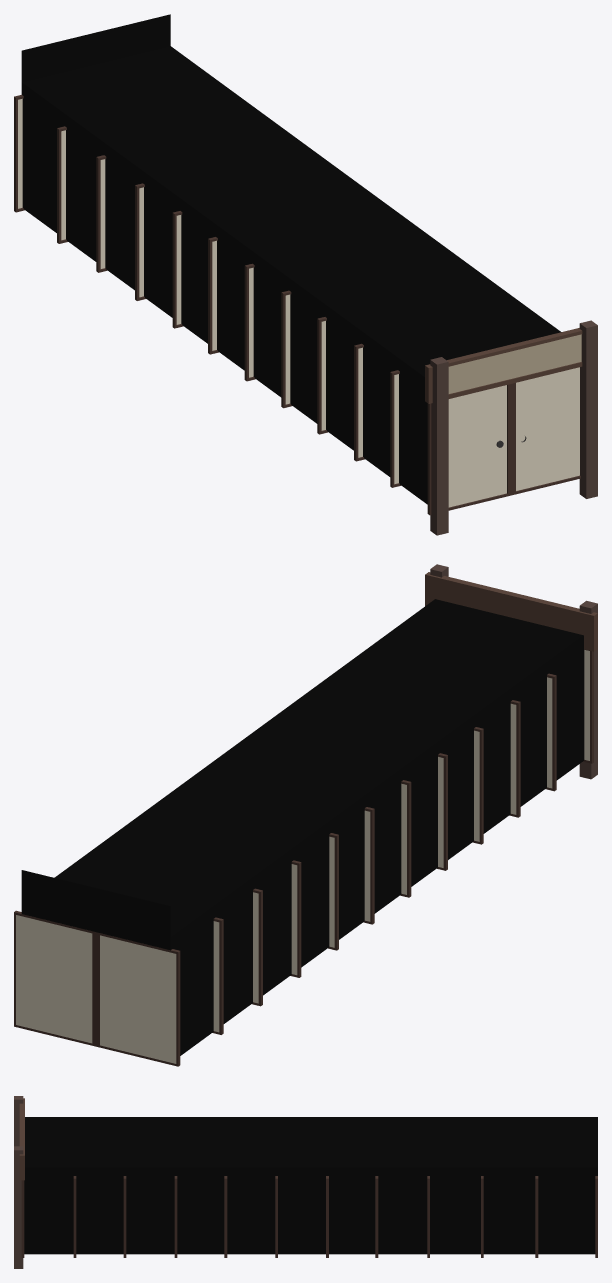
The model's file is room_transition.glb.
The picture shows the model from 3 angles, top to bottom: view 1: azimuth 30°, elevation 25°; view 2: azimuth 150°, elevation 25°; view 3: azimuth 270°, elevation 25°; orthographic projection. The views are drawn at different scales.
Parts seen in each view (by area): view 1: TransitionInner, AnimDoors1, SlidingDoorsTop, Cube.001, Cube.002, AnimDoors6, AnimDoors10, AnimDoors8, AnimDoors5, AnimDoors12, AnimDoors3, AnimDoors2 (+4 smaller); view 2: TransitionInner, AnimDoors12, SlidingDoorsTop, AnimDoors7, AnimDoors3, AnimDoors11, AnimDoors6, AnimDoors9, AnimDoors4, AnimDoors2, AnimDoors5, AnimDoors8 (+3 smaller); view 3: TransitionInner, Cube.002, SlidingDoorsTop, Cube.001, AnimDoors2, AnimDoors3, AnimDoors4, AnimDoors5, AnimDoors8, AnimDoors11, AnimDoors1.
Boxes of the visible parts, bbox=[...] form: TransitionInner: bbox=[21, 14, 561, 504]; AnimDoors1: bbox=[427, 367, 580, 515]; SlidingDoorsTop: bbox=[425, 328, 582, 403]; Cube.001: bbox=[430, 357, 448, 535]; Cube.002: bbox=[579, 320, 597, 498]; AnimDoors6: bbox=[244, 263, 255, 381]; AnimDoors10: bbox=[96, 155, 107, 272]; AnimDoors8: bbox=[172, 211, 183, 328]; AnimDoors5: bbox=[281, 290, 291, 408]; AnimDoors12: bbox=[14, 94, 24, 212]; AnimDoors3: bbox=[354, 343, 364, 461]; AnimDoors2: bbox=[390, 370, 400, 487]; TransitionInner: bbox=[21, 599, 584, 1055]; AnimDoors12: bbox=[14, 910, 180, 1066]; SlidingDoorsTop: bbox=[425, 572, 597, 651]; AnimDoors7: bbox=[363, 807, 374, 924]; AnimDoors3: bbox=[509, 700, 520, 817]; AnimDoors11: bbox=[212, 917, 223, 1034]; AnimDoors6: bbox=[400, 780, 411, 897]; AnimDoors9: bbox=[290, 860, 301, 977]; AnimDoors4: bbox=[472, 727, 483, 844]; AnimDoors2: bbox=[546, 673, 556, 791]; AnimDoors5: bbox=[437, 753, 447, 870]; AnimDoors8: bbox=[328, 833, 338, 950]; TransitionInner: bbox=[24, 1117, 597, 1254]; Cube.002: bbox=[14, 1146, 23, 1268]; SlidingDoorsTop: bbox=[19, 1098, 24, 1180]; Cube.001: bbox=[14, 1096, 23, 1146]; AnimDoors2: bbox=[73, 1176, 76, 1257]; AnimDoors3: bbox=[123, 1176, 126, 1257]; AnimDoors4: bbox=[174, 1176, 177, 1257]; AnimDoors5: bbox=[224, 1176, 227, 1257]; AnimDoors8: bbox=[375, 1176, 378, 1257]; AnimDoors11: bbox=[535, 1176, 538, 1257]; AnimDoors1: bbox=[21, 1180, 24, 1257].
Size of the model in its own units: 5.37 by 5.32 by 23.18.
